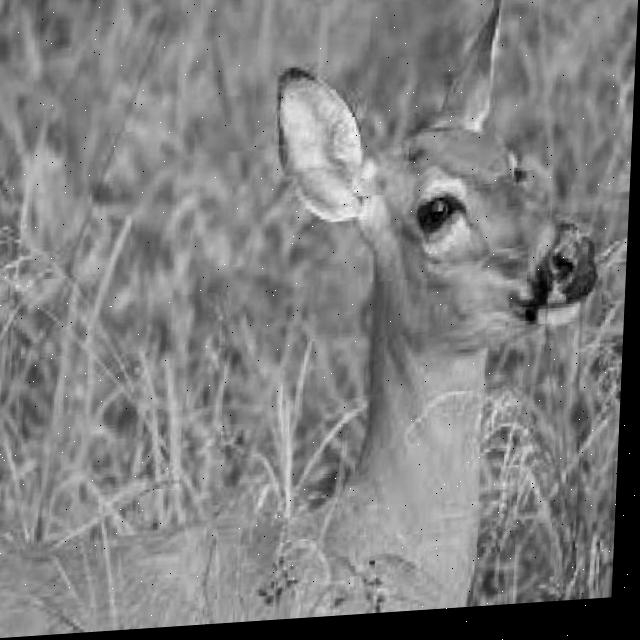Deer: (105, 0, 621, 622)
